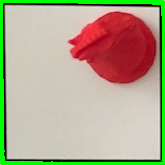Red Knight: (66, 9, 156, 86)
